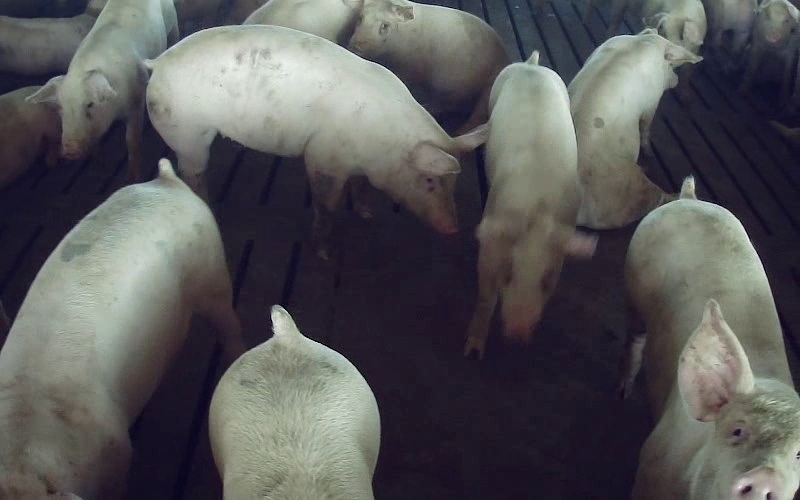pig: (0, 159, 242, 499), (620, 178, 799, 499), (465, 51, 595, 355), (349, 0, 509, 134)
